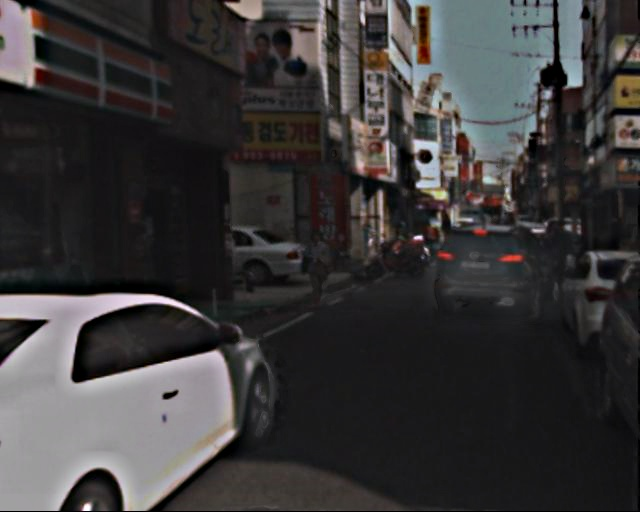person: (303, 230, 335, 309), (544, 223, 575, 299)
